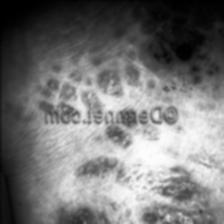Unclassified: (28, 128, 224, 224), (130, 6, 224, 74), (29, 70, 129, 109)
